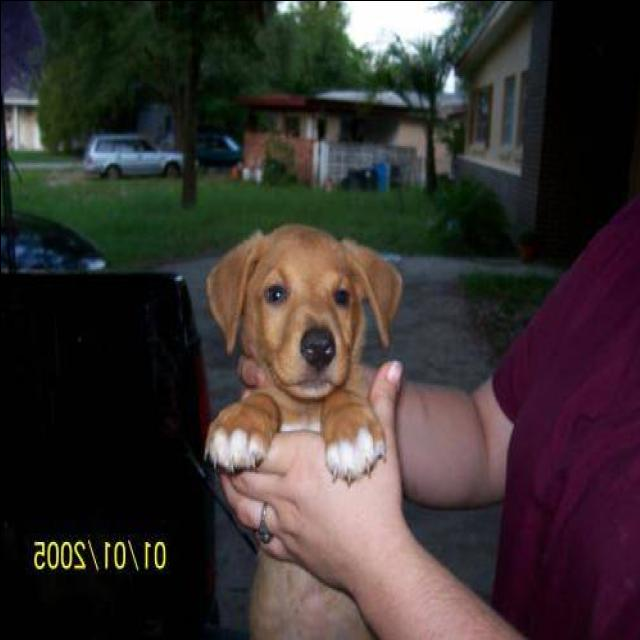dog: (206, 196, 401, 640)
